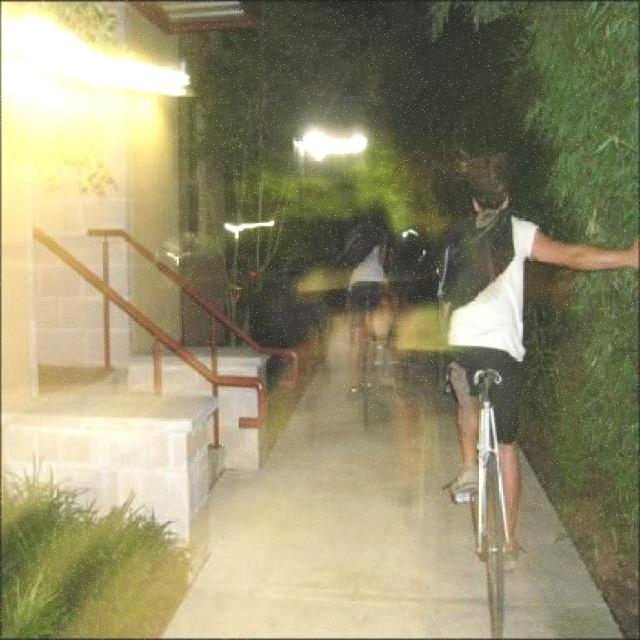stair: (206, 444, 226, 498)
